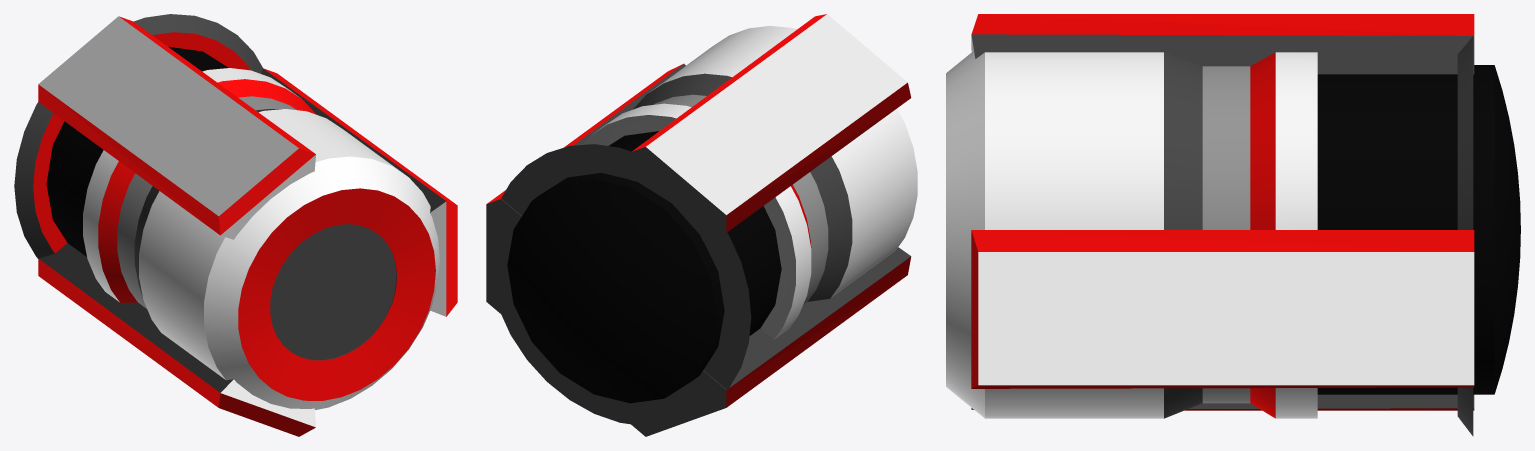
The model's file is vehicleStore.obj.
The picture shows the model from 3 angles, left to right: view 1: azimuth 30°, elevation 25°; view 2: azimuth 150°, elevation 25°; view 3: azimuth 270°, elevation 25°; orthographic projection. The views are drawn at different scales.
Parts seen in each view (by area): view 1: Cylinder025, Prism002, Prism003, Tube001, OilTank001, Prism001; view 2: OilTank001, Prism002, Cylinder025, Tube001, Prism003, Prism001; view 3: Prism001, Cylinder025, OilTank001, Prism002, Tube001, Prism003.
Boxes of the visible parts, left/top/right/bottom form: Cylinder025: left=83, top=68, right=439, bottom=409; Prism002: left=38, top=16, right=315, bottom=239; Prism003: left=38, top=243, right=315, bottom=436; Tube001: left=14, top=14, right=262, bottom=258; OilTank001: left=46, top=47, right=228, bottom=256; Prism001: left=261, top=68, right=457, bottom=316; OilTank001: left=507, top=131, right=781, bottom=403; Prism002: left=631, top=14, right=911, bottom=241; Cylinder025: left=582, top=26, right=917, bottom=339; Tube001: left=501, top=144, right=751, bottom=424; Prism003: left=631, top=247, right=911, bottom=436; Prism001: left=486, top=63, right=685, bottom=313; Prism001: left=971, top=230, right=1474, bottom=388; Cylinder025: left=946, top=51, right=1317, bottom=418; OilTank001: left=1317, top=65, right=1520, bottom=394; Prism002: left=971, top=14, right=1474, bottom=74; Tube001: left=1457, top=36, right=1473, bottom=436; Prism003: left=971, top=394, right=1474, bottom=410.
Size of the model in its own units: 1.59 by 1.67 by 2.19.
